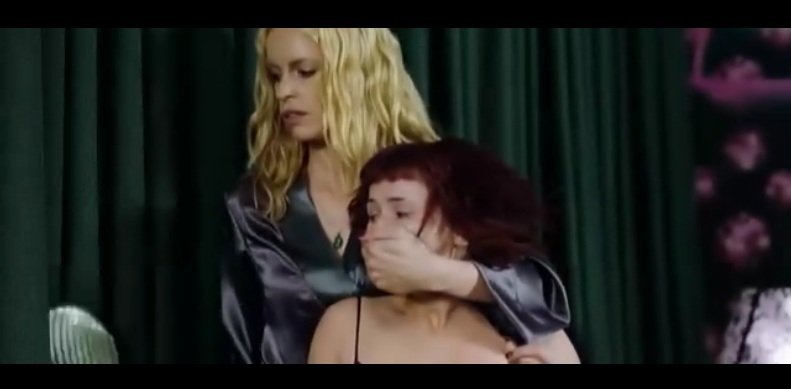face: (361, 186, 435, 288), (266, 30, 333, 137)
